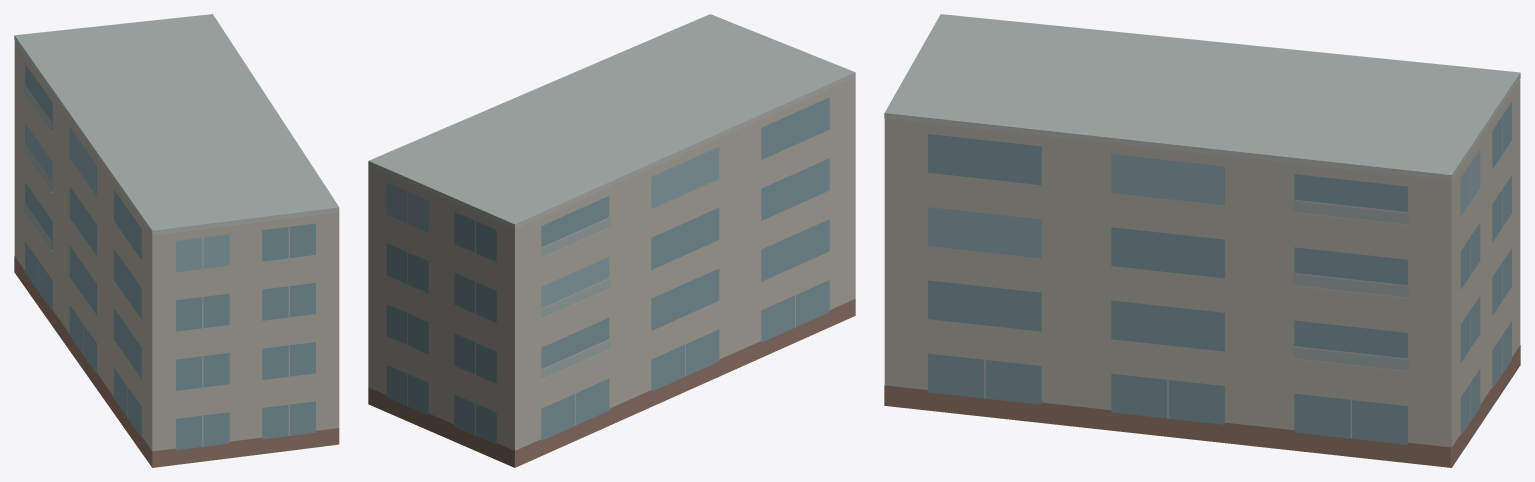
The model's file is survey-upis-32591624.glb.
3 renders of one model, left to right at view 1: azimuth 30°, elevation 25°; view 2: azimuth 150°, elevation 25°; view 3: azimuth 270°, elevation 25°, orthographic. The views are drawn at different scales.
Visible parts, largest first — view 1: survey-upis-32591624.tmp; view 2: survey-upis-32591624.tmp; view 3: survey-upis-32591624.tmp.
Boxes of the visible parts, left/top/right/bottom form: survey-upis-32591624.tmp: left=14, top=14, right=339, bottom=467; survey-upis-32591624.tmp: left=368, top=14, right=855, bottom=467; survey-upis-32591624.tmp: left=884, top=14, right=1520, bottom=467.
Size of the model in its own units: 14.64 by 12.4 by 24.42.
